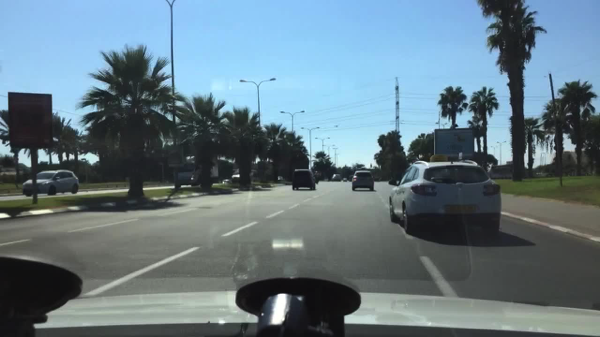car: (389, 155, 502, 235), (22, 170, 79, 196), (173, 157, 219, 186), (290, 170, 316, 191), (351, 170, 375, 192), (232, 168, 258, 183), (314, 170, 320, 184), (330, 174, 342, 181), (220, 179, 232, 184), (347, 175, 353, 182), (278, 176, 284, 180), (343, 178, 348, 182)
traffic sign: (7, 92, 54, 149), (433, 130, 474, 157)
